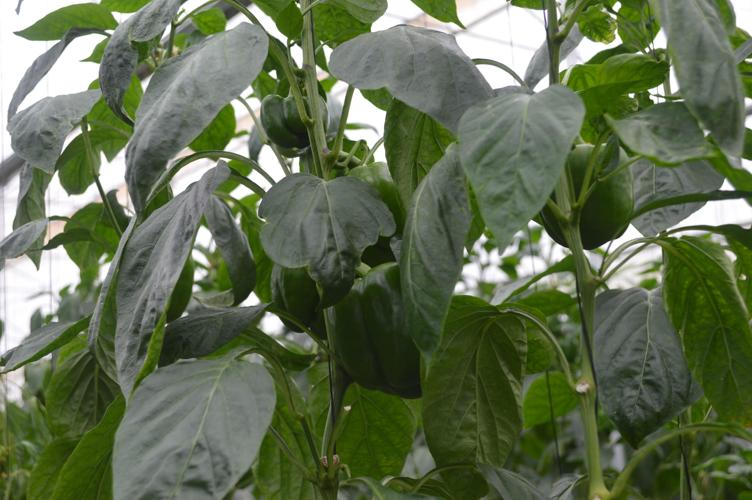BellPepper: (329, 262, 421, 395), (535, 141, 636, 244), (257, 94, 327, 148), (266, 265, 316, 332)
